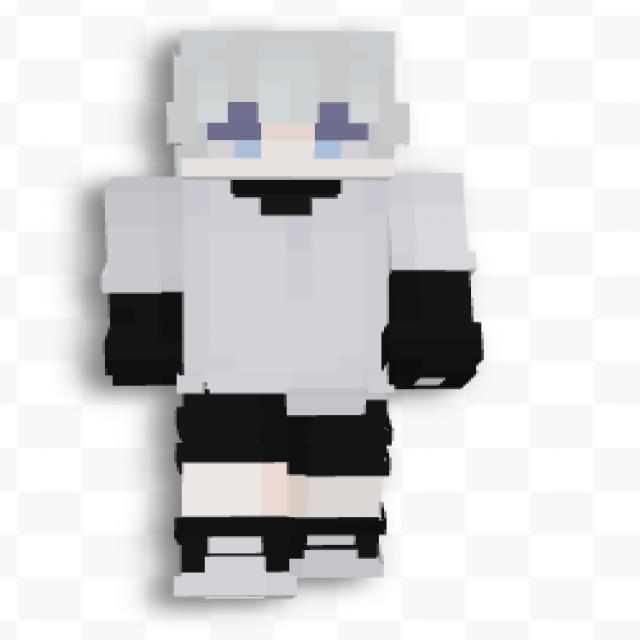Player: (105, 29, 495, 601)
